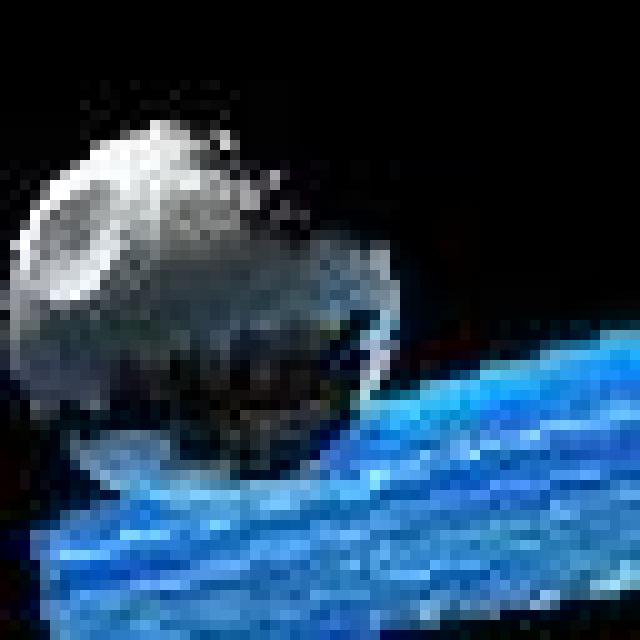Death Star: (12, 116, 432, 507)
